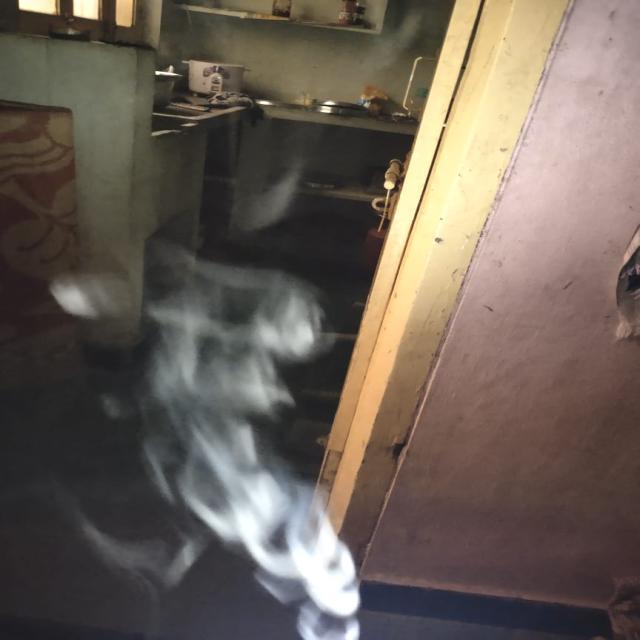fire: (103, 219, 370, 640)
